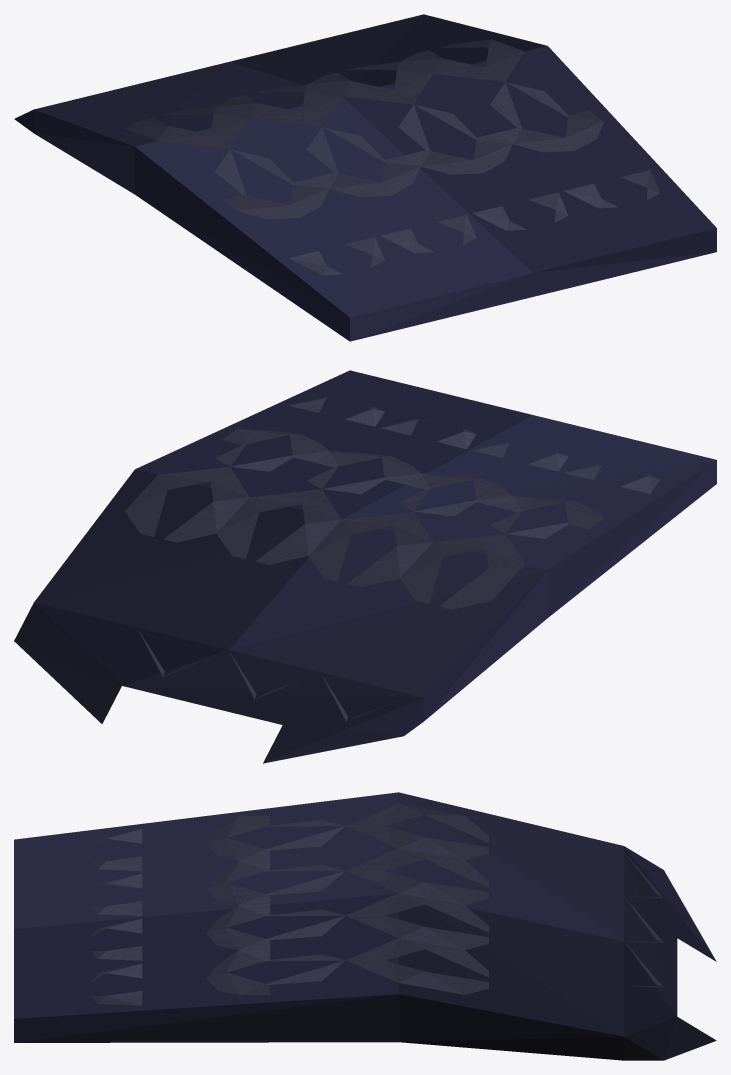
Rendered from mithril-chainbody.obj.
The picture shows the model from 3 angles, top to bottom: view 1: azimuth 30°, elevation 25°; view 2: azimuth 150°, elevation 25°; view 3: azimuth 270°, elevation 25°; orthographic projection.
Visible parts, largest first — view 1: Item Mithril chainbody 2026-09-24_18-13-54; view 2: Item Mithril chainbody 2026-09-24_18-13-54; view 3: Item Mithril chainbody 2026-09-24_18-13-54.
Boxes of the visible parts, box(x1,y1,x2,y2) form: Item Mithril chainbody 2026-09-24_18-13-54: box(14, 14, 716, 341); Item Mithril chainbody 2026-09-24_18-13-54: box(14, 370, 716, 763); Item Mithril chainbody 2026-09-24_18-13-54: box(14, 792, 716, 1060).
Bounding box in the file's own units: 36 × 9 × 53.
